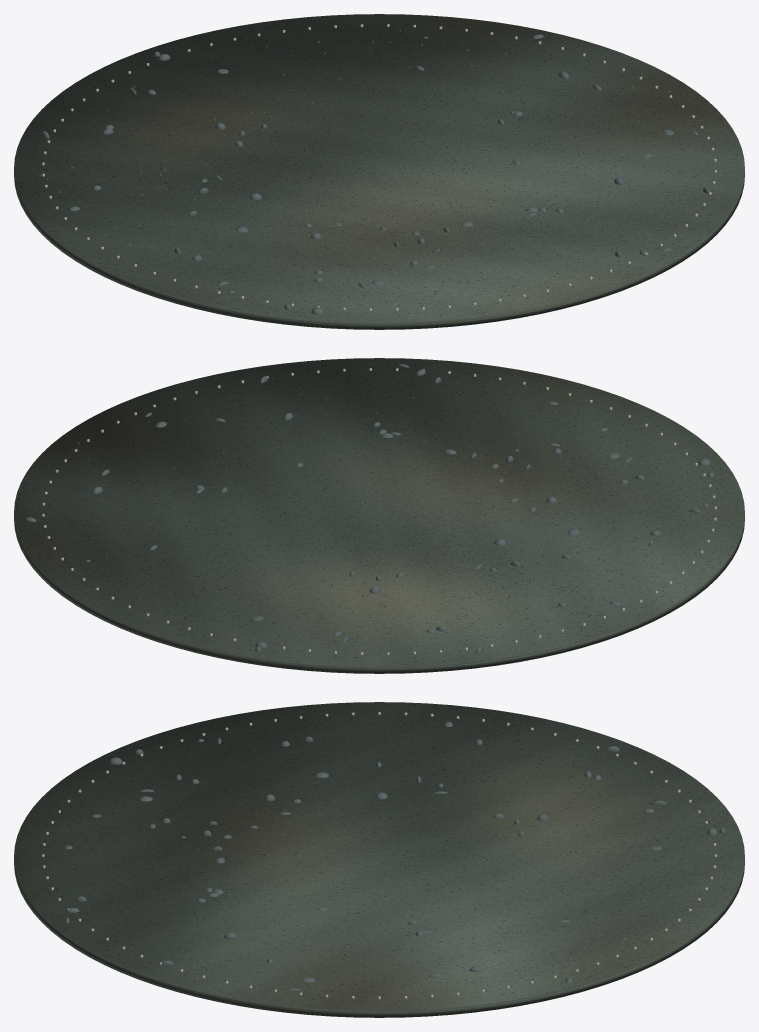
Rendered from castle-ground.glb.
3 renders of one model, top to bottom at view 1: azimuth 30°, elevation 25°; view 2: azimuth 150°, elevation 25°; view 3: azimuth 270°, elevation 25°, orthographic.
Visible parts, largest first — view 1: Terrain_Heather earth, Terrain_Outer rock, Terrain_Carved limestone; view 2: Terrain_Heather earth, Terrain_Outer rock, Terrain_Carved limestone, Terrain_Heather; view 3: Terrain_Heather earth, Terrain_Outer rock, Terrain_Carved limestone.
Part boxes in pixels (x1=…): Terrain_Heather earth: x1=14, y1=14, x2=744, y2=329; Terrain_Outer rock: x1=41, y1=34, x2=710, y2=314; Terrain_Carved limestone: x1=42, y1=24, x2=716, y2=310; Terrain_Heather earth: x1=14, y1=358, x2=744, y2=673; Terrain_Outer rock: x1=25, y1=364, x2=714, y2=653; Terrain_Carved limestone: x1=42, y1=368, x2=716, y2=654; Terrain_Heather: x1=78, y1=363, x2=707, y2=642; Terrain_Heather earth: x1=14, y1=702, x2=744, y2=1017; Terrain_Outer rock: x1=65, y1=721, x2=725, y2=990; Terrain_Carved limestone: x1=41, y1=712, x2=717, y2=999.
Bounding box in the file's own units: 50 × 0.8452 × 50.
Materials: 4 (2 with a texture image).
